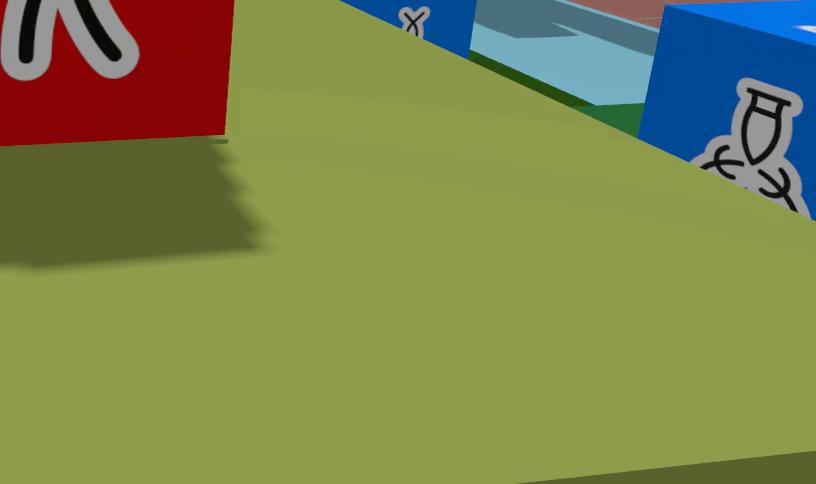KFS_FAKE: (0, 0, 234, 146), (1, 0, 138, 80)
KFS_REAL: (639, 0, 815, 216), (691, 77, 809, 216), (339, 0, 477, 53)
